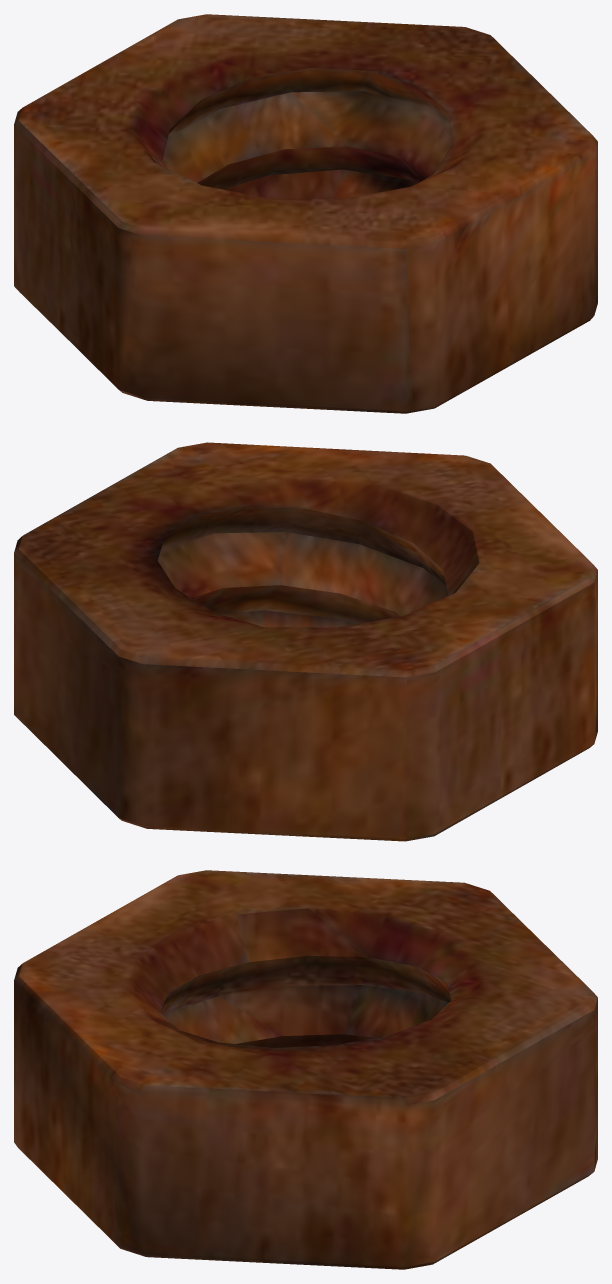
File: bolts_nuts_06.glb
The picture shows the model from 3 angles, top to bottom: view 1: azimuth 30°, elevation 25°; view 2: azimuth 150°, elevation 25°; view 3: azimuth 270°, elevation 25°; orthographic projection.
Visible parts, largest first — view 1: bolts_nuts_06; view 2: bolts_nuts_06; view 3: bolts_nuts_06.
Part boxes in pixels (left/top/right/bottom): bolts_nuts_06: left=14, top=14, right=597, bottom=413; bolts_nuts_06: left=14, top=442, right=597, bottom=841; bolts_nuts_06: left=14, top=870, right=597, bottom=1269.
Size of what is drawn, in the model's own units: 0.0415 by 0.0146 by 0.0441.
1 material, 1 textured.
